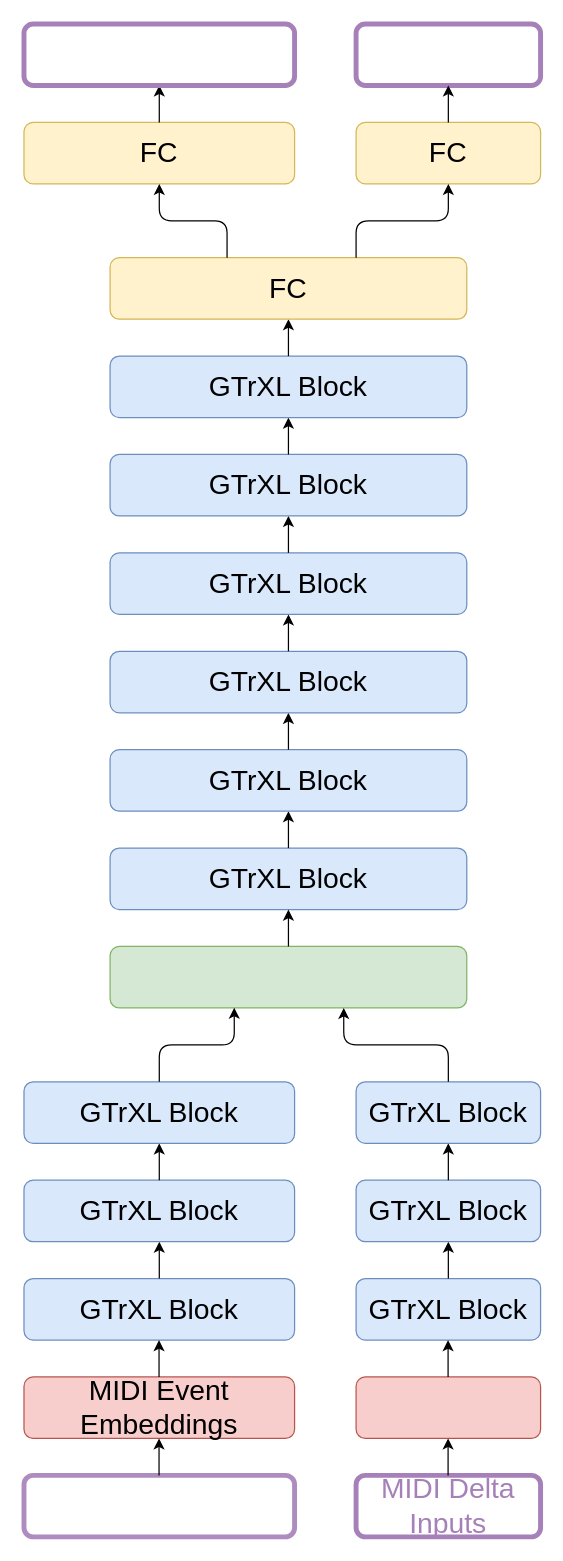
This 563x1561 diagram has some shape labels left out. Here are the shapes that lost their labels. From the top down, the centre of each, then its label:
the point at 158,54: MIDI Event Outputs
the point at 447,54: MIDI Delta Outputs
the point at 288,976: Concatenation
the point at 448,1407: MIDI Delta Embeddings
the point at 158,1505: MIDI Event Inputs
